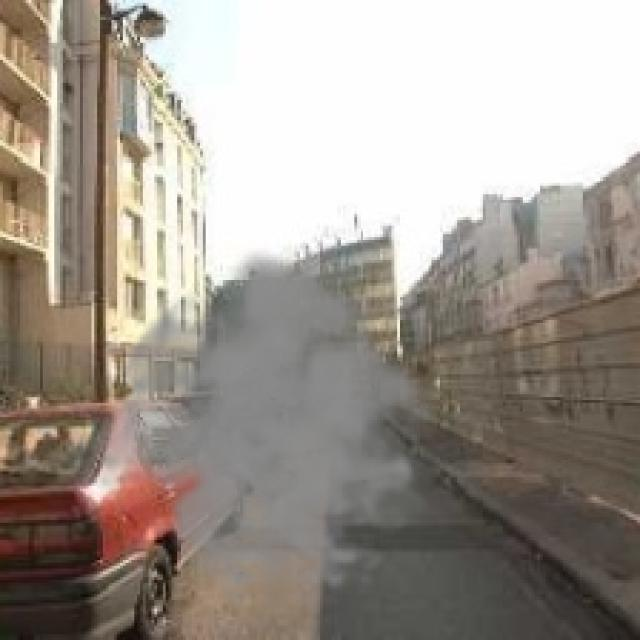smoke: (83, 248, 451, 612)
